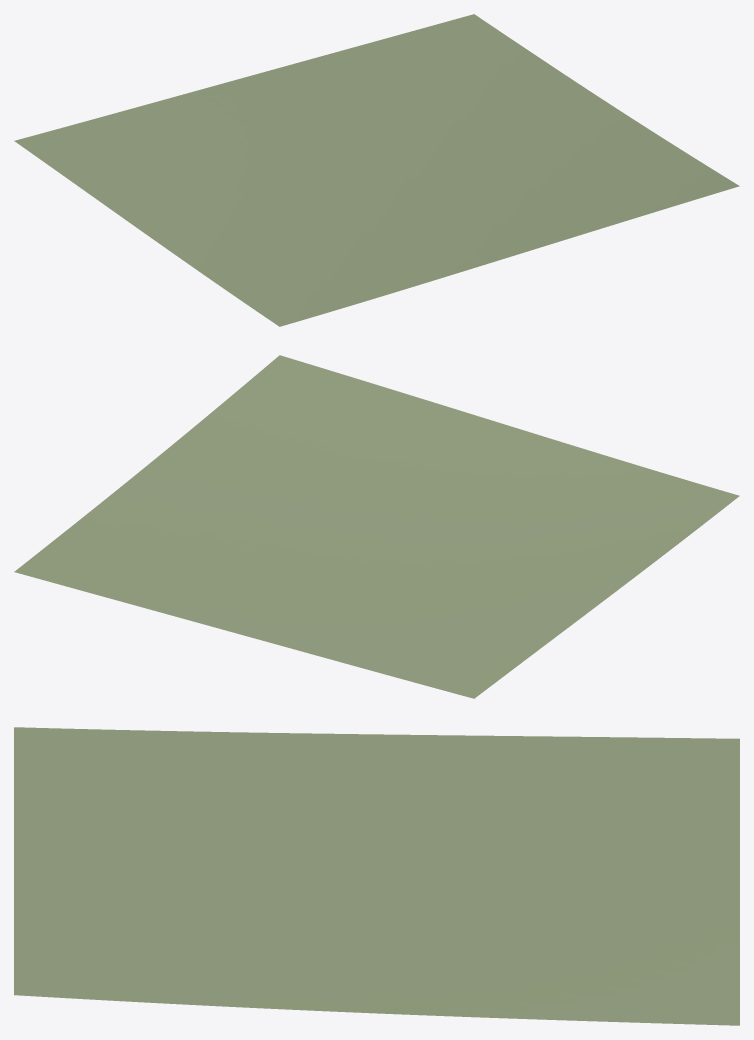
File: expanse-4-23.glb
3 renders of one model, top to bottom at view 1: azimuth 30°, elevation 25°; view 2: azimuth 150°, elevation 25°; view 3: azimuth 270°, elevation 25°, orthographic. The views are drawn at different scales.
Visible parts, largest first — view 1: expanse-4-23; view 2: expanse-4-23; view 3: expanse-4-23.
Part boxes in pixels (box(x1,y1,x2,y2)): expanse-4-23: box(14, 14, 739, 326); expanse-4-23: box(14, 355, 739, 698); expanse-4-23: box(14, 727, 739, 1025).
Size of the model in its own units: 256 by 19.63 by 256.
